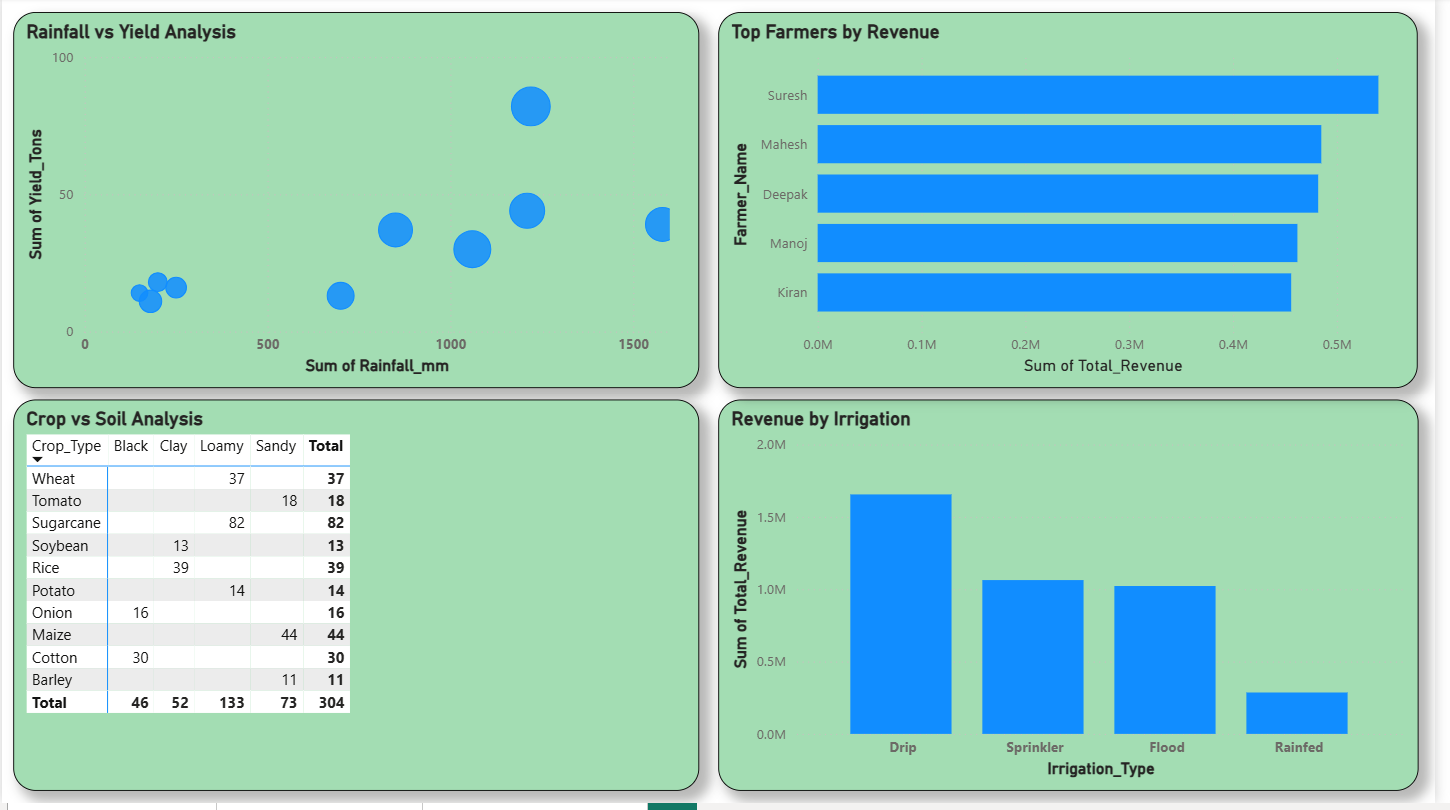

This screenshot's page, from the dashboard's own definition file:
{"tool":"powerbi","page":{"name":"Page 3 Advanced analysis","canvas":[1280,720],"ordinal":2},"visuals":[{"type":"scatterChart","title":"Rainfall vs Yield Analysis","fields":{"X":["Sum(Farm_Records.Rainfall_mm)"],"Y":["Sum(Farm_Records.Yield_Tons)"],"Category":["Crops.Crop_Type"],"Size":["Sum(Farm_Records.Area_Acres)"]},"box":[10,13.8,612.5,336.2],"z":0},{"type":"pivotTable","title":"Crop vs Soil Analysis","fields":{"Rows":["Crops.Crop_Type"],"Columns":["Crops.Soil_Type"],"Values":["Crops.Total Yield"]},"box":[10,359.6,613,349.5],"z":1000},{"type":"clusteredColumnChart","title":"Revenue by Irrigation","fields":{"Category":["Farm_Records.Irrigation_Type"],"Y":["Sum(Farm_Records.Total_Revenue)"]},"box":[639.8,359.6,625.3,349.5],"z":2000},{"type":"clusteredBarChart","title":"Top Farmers by Revenue","fields":{"Category":["Farmers.Farmer_Name"],"Y":["Sum(Farm_Records.Total_Revenue)"]},"box":[640,13.8,625,336.2],"z":7000}]}

Visuals, with their boxes in screenshot pixels (x1, y1, x2, y2), scaled from the page's 1280x720 canvas onto the 1450x810 screenshot:
"Rainfall vs Yield Analysis" scatterChart: 11/16/705/394
"Crop vs Soil Analysis" pivotTable: 11/405/706/798
"Revenue by Irrigation" clusteredColumnChart: 725/405/1433/798
"Top Farmers by Revenue" clusteredBarChart: 725/16/1433/394
